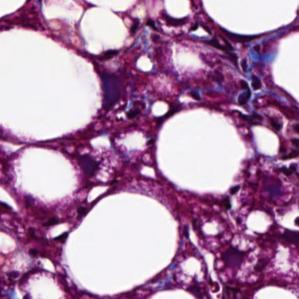inflammation: (202, 28, 250, 75), (43, 203, 93, 244), (129, 9, 191, 40), (233, 73, 271, 108), (220, 184, 247, 215), (187, 84, 207, 108)
